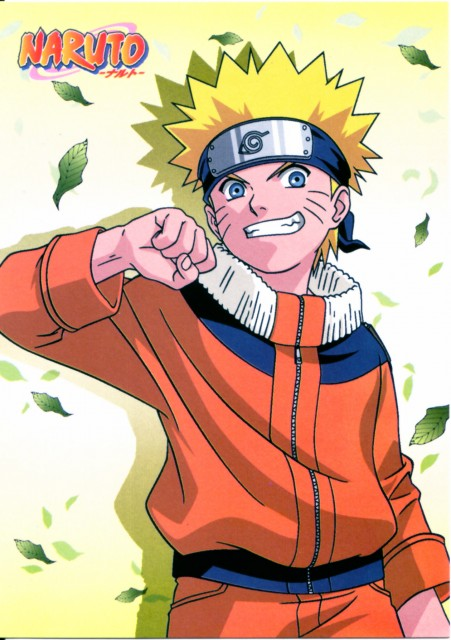naruto: (197, 113, 355, 276)
